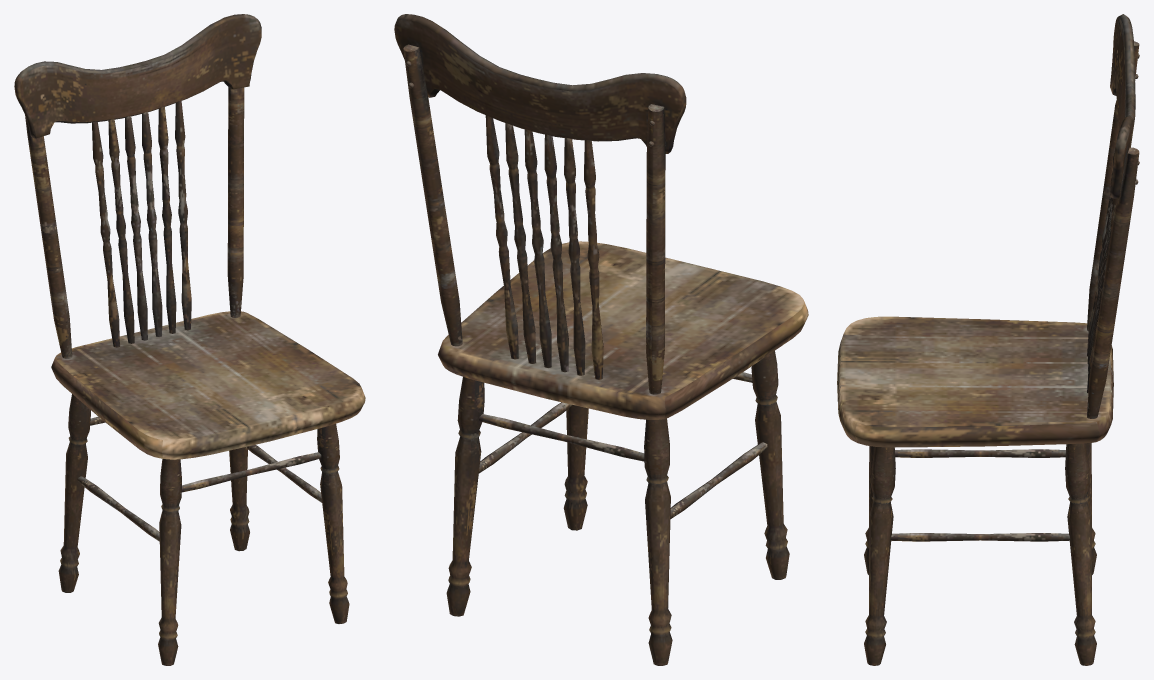
Rendered from 012_OfficeChair.fbx.
3 renders of one model, left to right at view 1: azimuth 30°, elevation 25°; view 2: azimuth 150°, elevation 25°; view 3: azimuth 270°, elevation 25°, orthographic. The views are drawn at different scales.
Visible parts, largest first — view 1: LOD_1_Group_0_Sub_1__sm30_012_OfficeChair01A_A_Mat; view 2: LOD_1_Group_0_Sub_1__sm30_012_OfficeChair01A_A_Mat; view 3: LOD_1_Group_0_Sub_1__sm30_012_OfficeChair01A_A_Mat.
Part boxes in pixels (bbox=[...]): LOD_1_Group_0_Sub_1__sm30_012_OfficeChair01A_A_Mat: bbox=[14, 14, 365, 665]; LOD_1_Group_0_Sub_1__sm30_012_OfficeChair01A_A_Mat: bbox=[394, 14, 808, 665]; LOD_1_Group_0_Sub_1__sm30_012_OfficeChair01A_A_Mat: bbox=[837, 14, 1139, 665].
Size of the model in its own units: 0.5536 by 1.11 by 0.5557.
